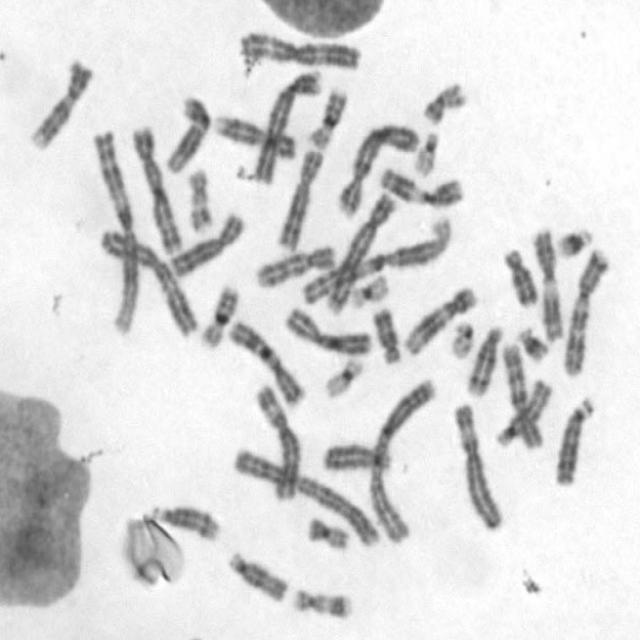A1: (298, 212, 456, 309), (90, 126, 141, 337)
A2: (229, 443, 384, 549), (364, 374, 437, 546)
A3: (95, 224, 200, 338), (235, 27, 362, 71)
B4: (248, 65, 324, 186), (333, 117, 421, 220)
B5: (301, 189, 397, 308), (129, 121, 183, 256)
C10: (500, 340, 544, 451), (251, 240, 338, 291)
C11: (528, 223, 564, 345), (375, 163, 465, 210)
C12: (401, 282, 478, 357), (161, 92, 213, 174)
C6: (449, 397, 505, 532), (251, 380, 302, 504)
C7: (226, 316, 306, 409), (559, 242, 610, 378)
C8: (165, 208, 247, 280), (272, 145, 326, 251)
C9: (25, 54, 93, 153), (210, 114, 299, 162)
D13: (552, 392, 596, 486), (316, 438, 396, 474)
D14: (461, 322, 505, 398), (148, 498, 222, 542)
D15: (492, 375, 554, 449), (225, 548, 289, 604)
E16: (304, 84, 349, 150), (197, 281, 240, 349)
E17: (288, 584, 355, 622), (183, 164, 214, 234)
E18: (500, 244, 540, 308), (368, 302, 402, 366)
F19: (321, 353, 366, 400), (346, 270, 390, 310)
F20: (419, 79, 468, 125), (304, 511, 352, 553)
G21: (551, 223, 595, 261), (514, 324, 550, 365)
G22: (410, 127, 441, 178), (446, 316, 476, 361)
X: (282, 303, 372, 357)
